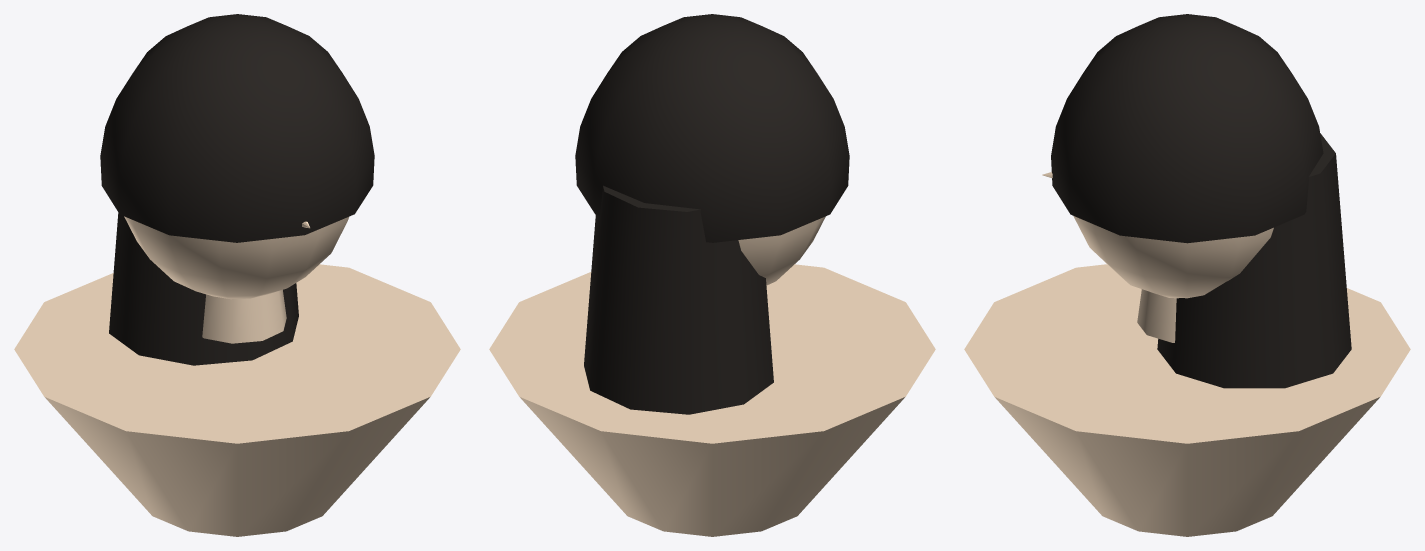
The model's file is raw_001.glb.
3 renders of one model, left to right at view 1: azimuth 30°, elevation 25°; view 2: azimuth 150°, elevation 25°; view 3: azimuth 270°, elevation 25°, orthographic.
Size of the model in its own units: 1.86 by 2.16 by 1.86.
